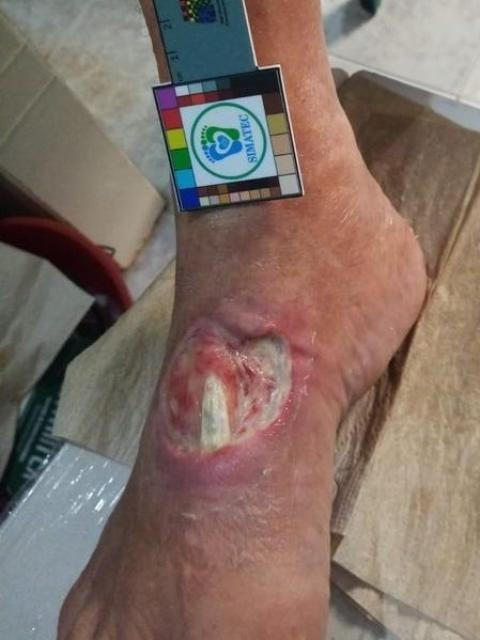wound: (159, 313, 298, 461)
